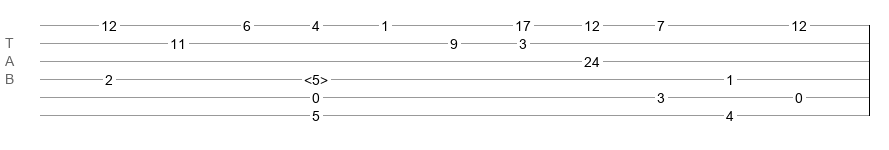0: (312, 90, 320, 100), (795, 90, 803, 100)
1: (381, 18, 389, 28), (726, 72, 734, 82)
11: (170, 36, 186, 46)
12: (101, 18, 117, 28), (584, 18, 600, 28), (791, 18, 807, 28)
17: (515, 18, 531, 28)
2: (105, 72, 113, 82)
24: (584, 54, 600, 64)
3: (519, 36, 527, 46), (657, 90, 665, 100)
4: (312, 18, 320, 28), (726, 108, 734, 118)
5: (312, 108, 320, 118)
6: (243, 18, 251, 28)
7: (657, 18, 665, 28)
9: (450, 36, 458, 46)
harmonic: (304, 72, 328, 82)
